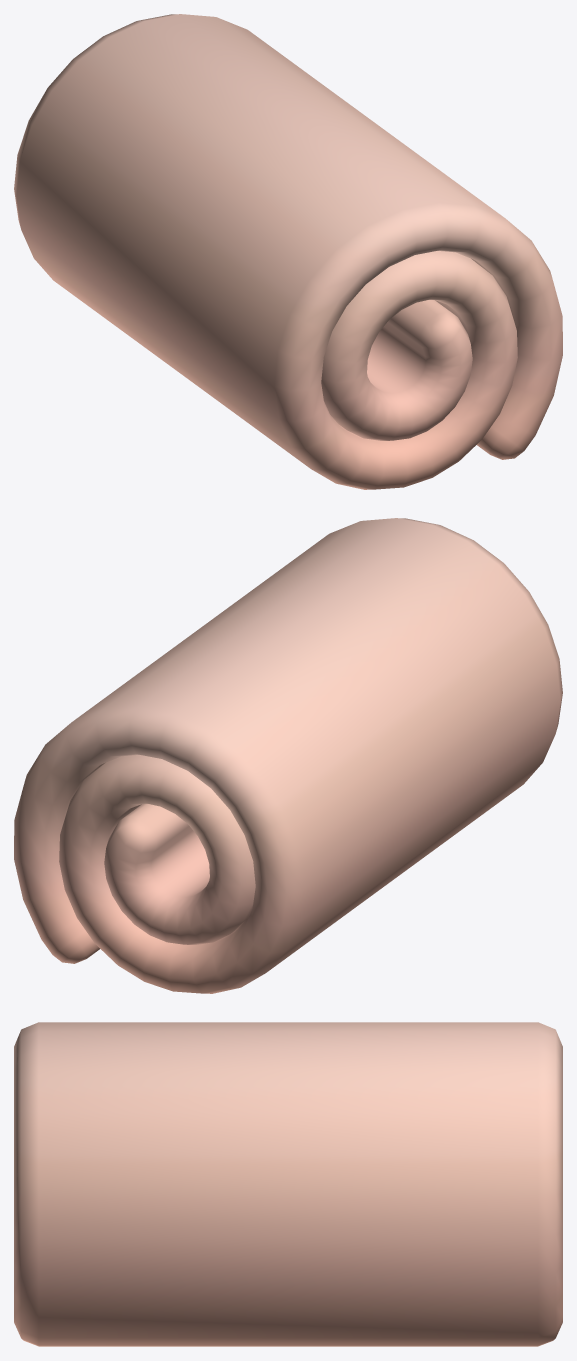
The model's file is Towel_01.glb.
The picture shows the model from 3 angles, top to bottom: view 1: azimuth 30°, elevation 25°; view 2: azimuth 150°, elevation 25°; view 3: azimuth 270°, elevation 25°; orthographic projection. The views are drawn at different scales.
Visible parts, largest first — view 1: Towel_01; view 2: Towel_01; view 3: Towel_01.
Boxes of the visible parts, left/top/right/bottom form: Towel_01: left=14, top=14, right=562, bottom=489; Towel_01: left=14, top=518, right=562, bottom=993; Towel_01: left=14, top=1022, right=562, bottom=1346.
Size of the model in its own units: 0.1818 by 0.1677 by 0.3121.
1 material, 1 textured.
